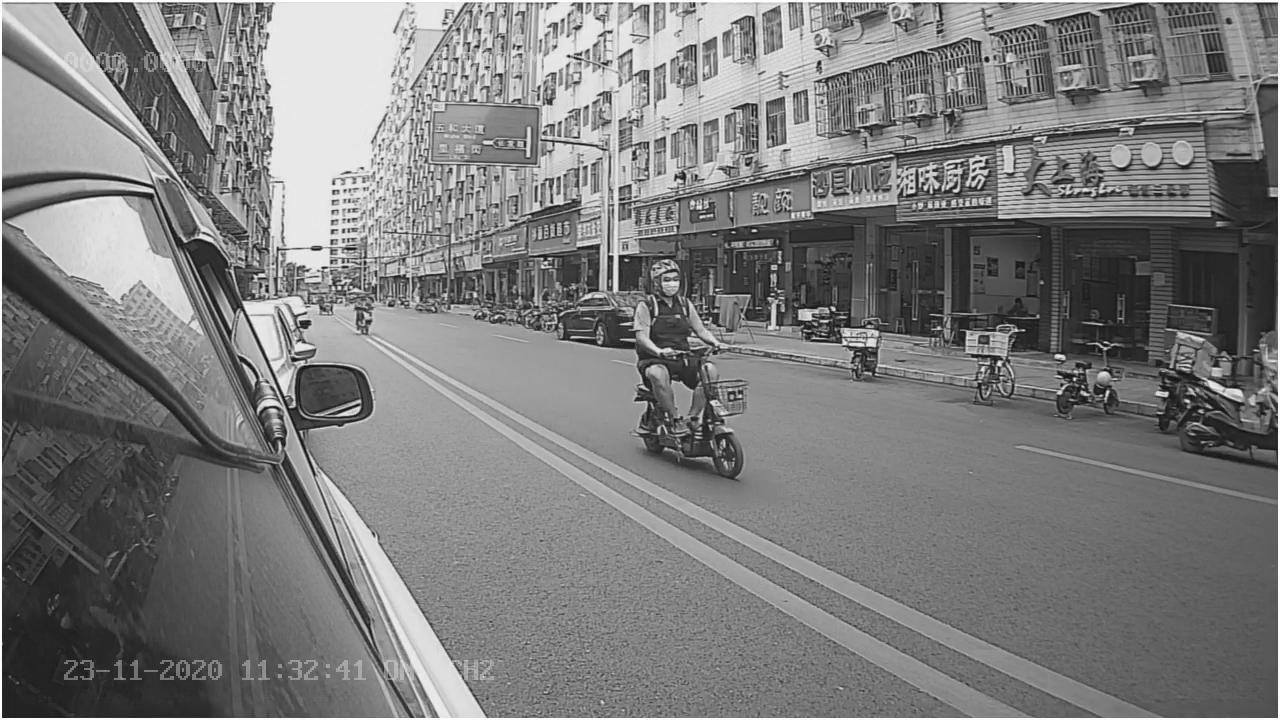person: (633, 257, 723, 362)
